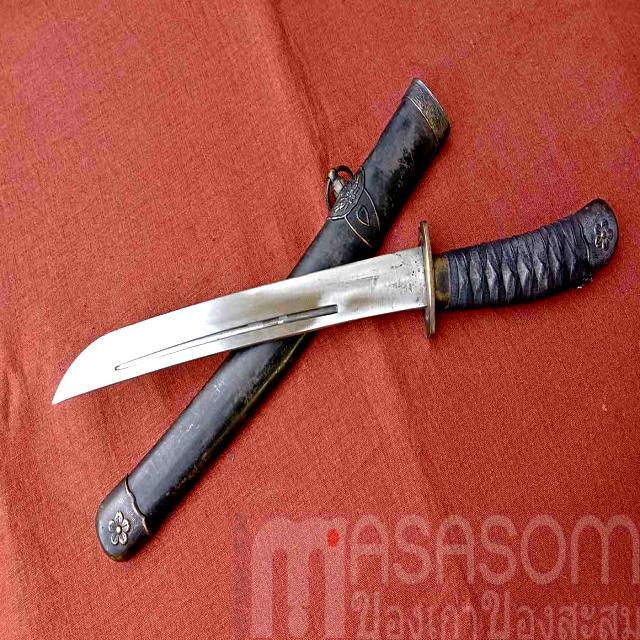short sword: (45, 67, 614, 573)
